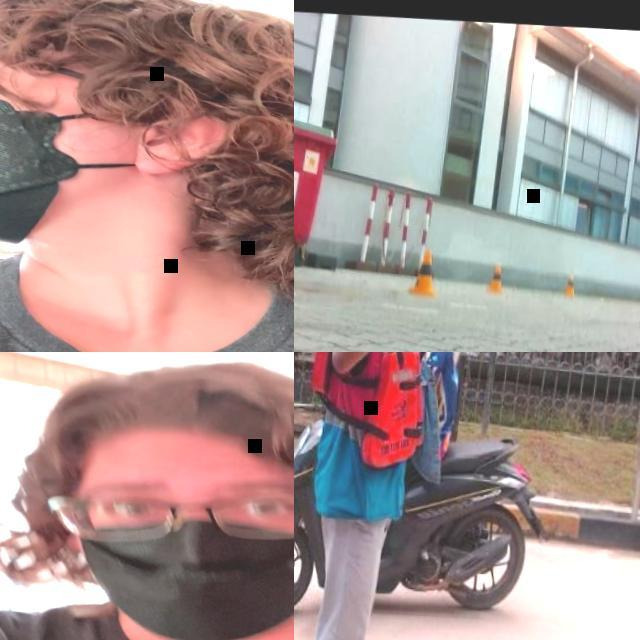vest: (309, 352, 435, 465)
